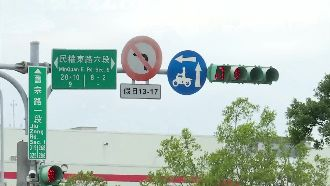No_left_turn: (120, 36, 163, 81)
